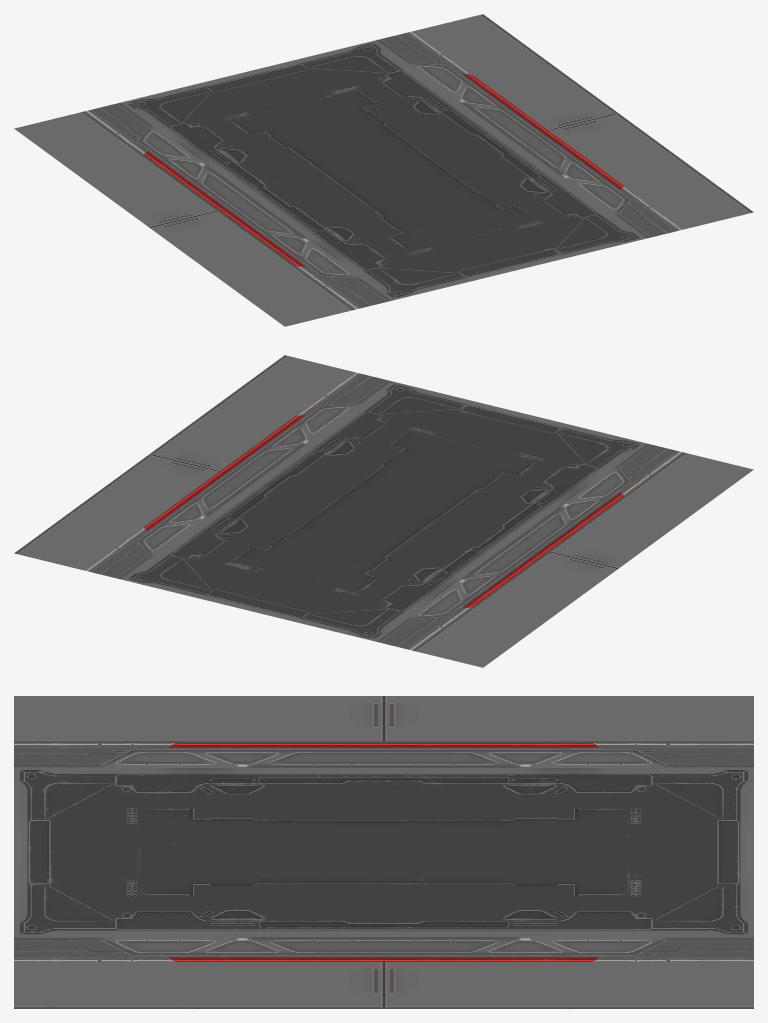
File: Platform_CenterPlate.glb
3 views of the same model, one above another, from view 1: azimuth 30°, elevation 25°; view 2: azimuth 150°, elevation 25°; view 3: azimuth 270°, elevation 25° (orthographic). The views are drawn at different scales.
Visible parts, largest first — view 1: Platform_CenterPlate; view 2: Platform_CenterPlate; view 3: Platform_CenterPlate.
Part boxes in pixels (x1,y1,x2,y2): Platform_CenterPlate: (14,14,753,326); Platform_CenterPlate: (14,355,753,667); Platform_CenterPlate: (14,696,753,1008).
Size of the model in its own units: 4 by 0 by 4.
2 materials, 2 textured.
